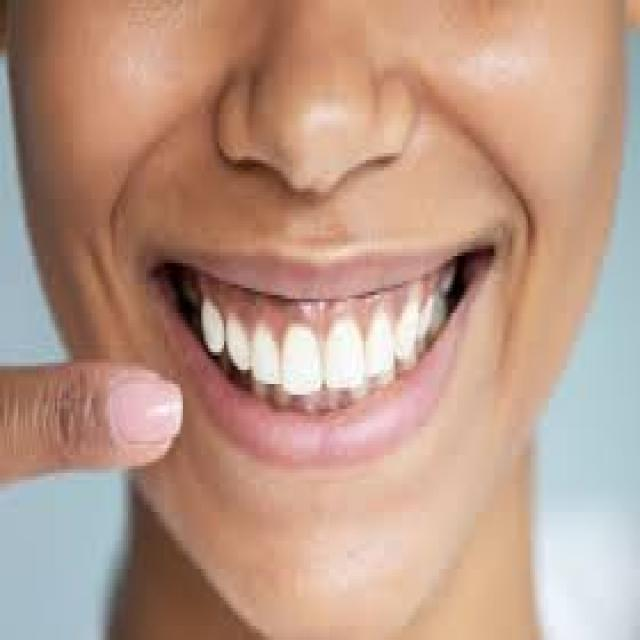tooth: (288, 324, 322, 398), (324, 324, 364, 384), (249, 324, 284, 384), (391, 306, 423, 366), (368, 320, 393, 377), (201, 295, 224, 356), (425, 292, 460, 331), (229, 316, 249, 374)
